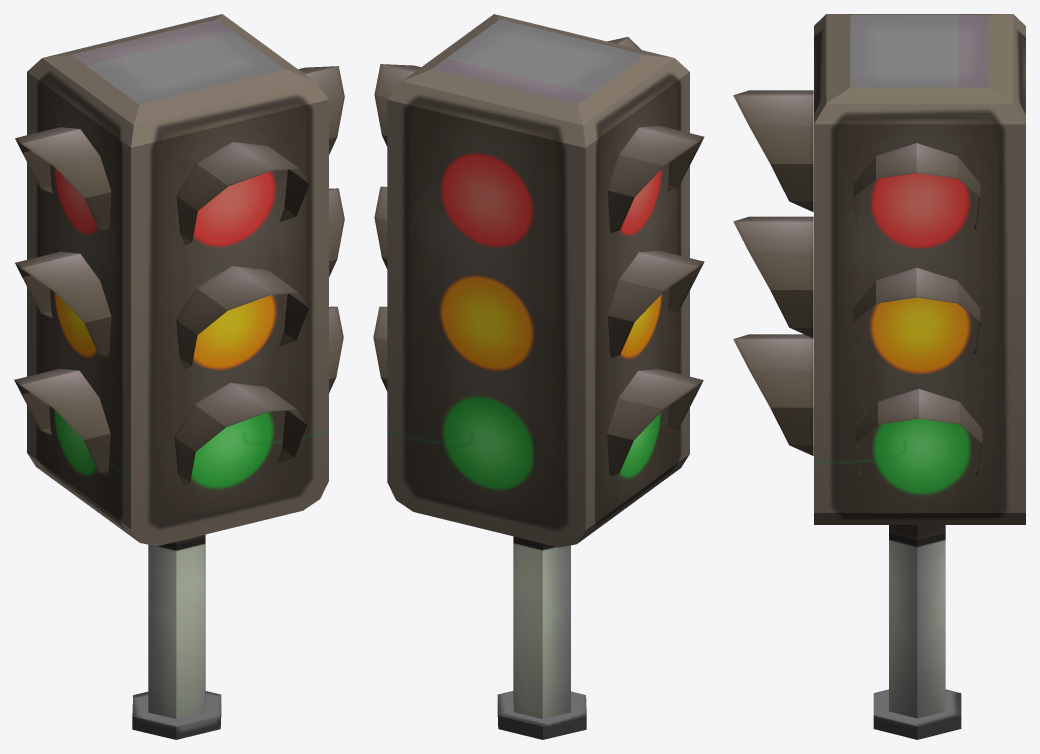
File: Ceshichangji_HongLvDeng_01.FBX
3 renders of one model, left to right at view 1: azimuth 30°, elevation 25°; view 2: azimuth 150°, elevation 25°; view 3: azimuth 270°, elevation 25°, orthographic.
Parts seen in each view (by area): view 1: Object013; view 2: Object013; view 3: Object013.
Part boxes in pixels (left/top/right/bottom): Object013: left=14, top=14, right=344, bottom=739; Object013: left=373, top=14, right=704, bottom=739; Object013: left=733, top=14, right=1025, bottom=739.
Bounding box in the file's own units: 218 × 430 × 171.
